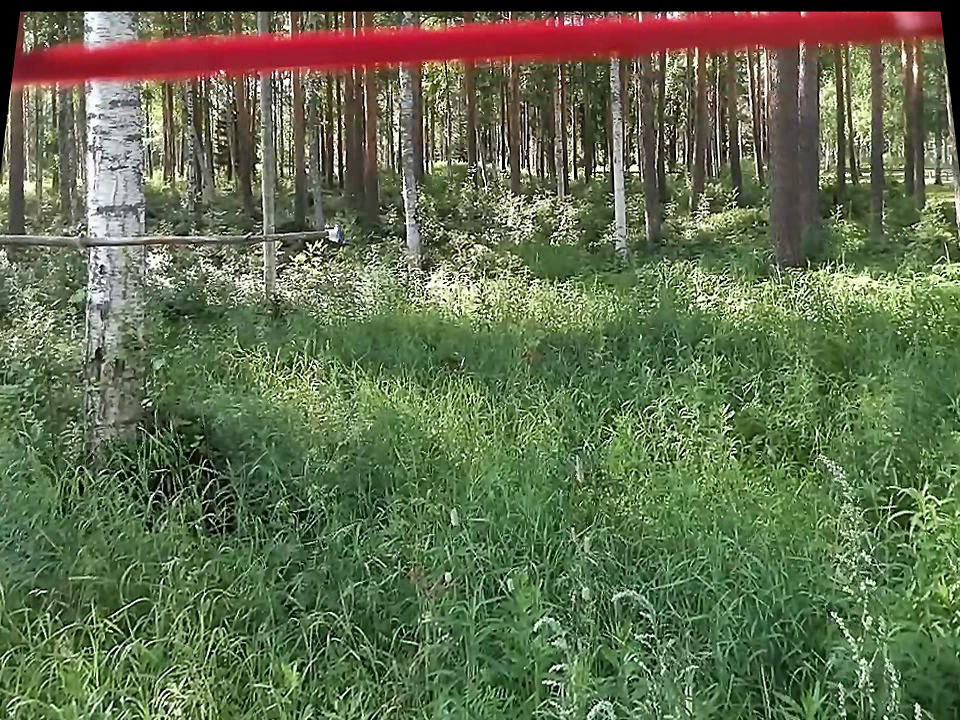branch: (2, 215, 319, 266)
